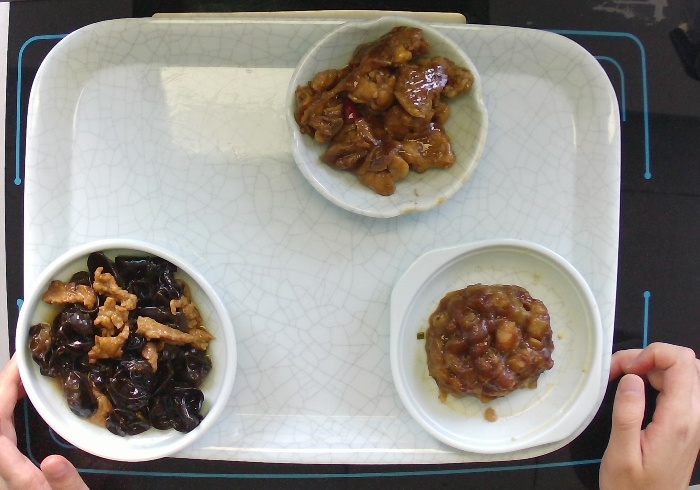JYsf-Ao_Yuan_Wan: (283, 14, 490, 220)
JYsf-Shuang_Er_Pan: (387, 235, 605, 457)
JYsf-Xiao_Yuan_Pan: (14, 236, 239, 465)
